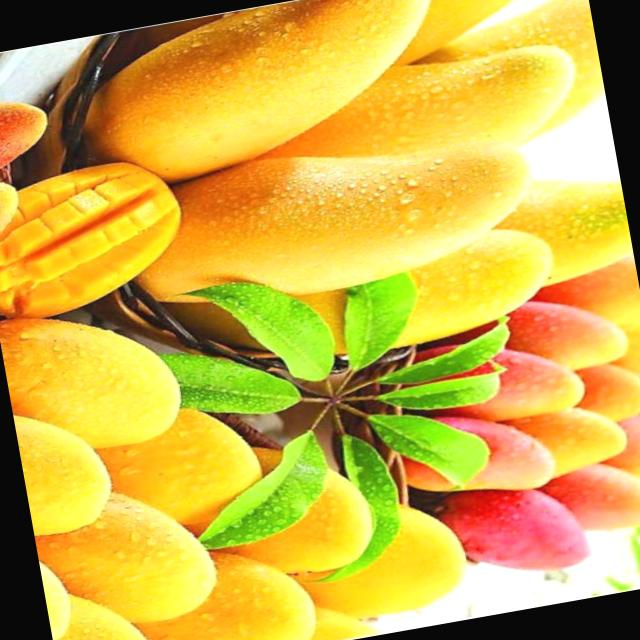mango: (138, 116, 531, 310), (72, 0, 449, 192), (236, 36, 582, 189), (284, 222, 561, 362), (0, 297, 190, 462), (30, 477, 222, 637), (121, 538, 319, 640), (432, 470, 589, 588), (396, 398, 557, 510), (409, 332, 584, 435)
